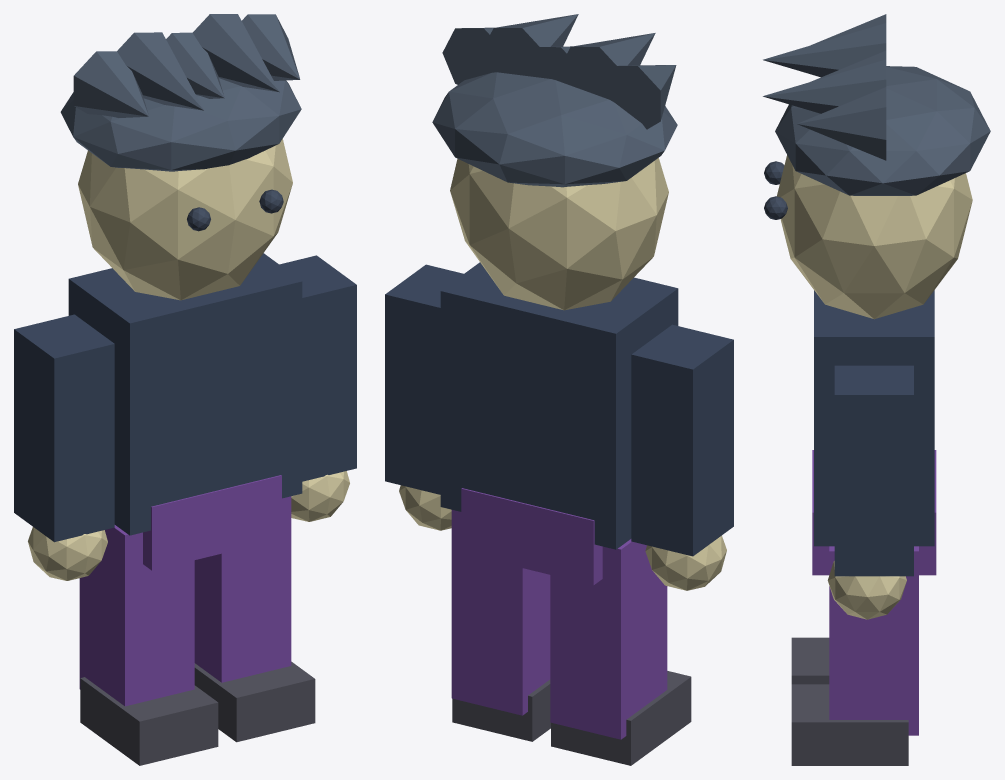
The model's file is jinwoo.glb.
3 renders of one model, left to right at view 1: azimuth 30°, elevation 25°; view 2: azimuth 150°, elevation 25°; view 3: azimuth 270°, elevation 25°, orthographic. The views are drawn at different scales.
Parts seen in each view (by area): view 1: part_000, part_010, part_002, part_004, part_013, part_008, part_006, part_001, part_005, part_009, part_014, part_015 (+5 smaller); view 2: part_000, part_010, part_002, part_013, part_004, part_008, part_006, part_001, part_005, part_015, part_014, part_017 (+5 smaller); view 3: part_010, part_006, part_013, part_000, part_008, part_009, part_018, part_015, part_017, part_007, part_005, part_001 (+1 smaller).
Boxes of the visible parts, bbox=[...] form: part_000: bbox=[68, 253, 302, 535]; part_010: bbox=[78, 139, 292, 300]; part_002: bbox=[14, 314, 114, 542]; part_004: bbox=[79, 525, 194, 706]; part_013: bbox=[60, 78, 301, 171]; part_008: bbox=[194, 496, 291, 682]; part_006: bbox=[279, 255, 356, 481]; part_001: bbox=[143, 475, 281, 570]; part_005: bbox=[80, 677, 218, 765]; part_009: bbox=[194, 661, 315, 742]; part_014: bbox=[73, 51, 148, 117]; part_015: bbox=[117, 32, 203, 110]; part_000: bbox=[440, 262, 678, 549]; part_010: bbox=[450, 158, 668, 310]; part_002: bbox=[631, 324, 733, 556]; part_013: bbox=[432, 72, 677, 187]; part_004: bbox=[550, 539, 667, 739]; part_008: bbox=[451, 510, 550, 715]; part_006: bbox=[385, 264, 463, 494]; part_001: bbox=[461, 488, 602, 585]; part_005: bbox=[551, 671, 691, 765]; part_015: bbox=[558, 33, 655, 103]; part_014: bbox=[596, 65, 676, 129]; part_017: bbox=[481, 14, 578, 77]; part_010: bbox=[777, 155, 972, 319]; part_006: bbox=[834, 365, 913, 576]; part_013: bbox=[775, 66, 990, 195]; part_000: bbox=[814, 290, 934, 546]; part_008: bbox=[829, 546, 918, 735]; part_009: bbox=[791, 684, 908, 765]; part_018: bbox=[797, 87, 886, 160]; part_015: bbox=[763, 23, 886, 77]; part_017: bbox=[763, 59, 886, 113]; part_007: bbox=[827, 561, 906, 619]; part_005: bbox=[791, 637, 829, 684]; part_001: bbox=[812, 450, 936, 575].
Bounding box in the file's own units: 1.03 × 2.17 × 0.6628.
